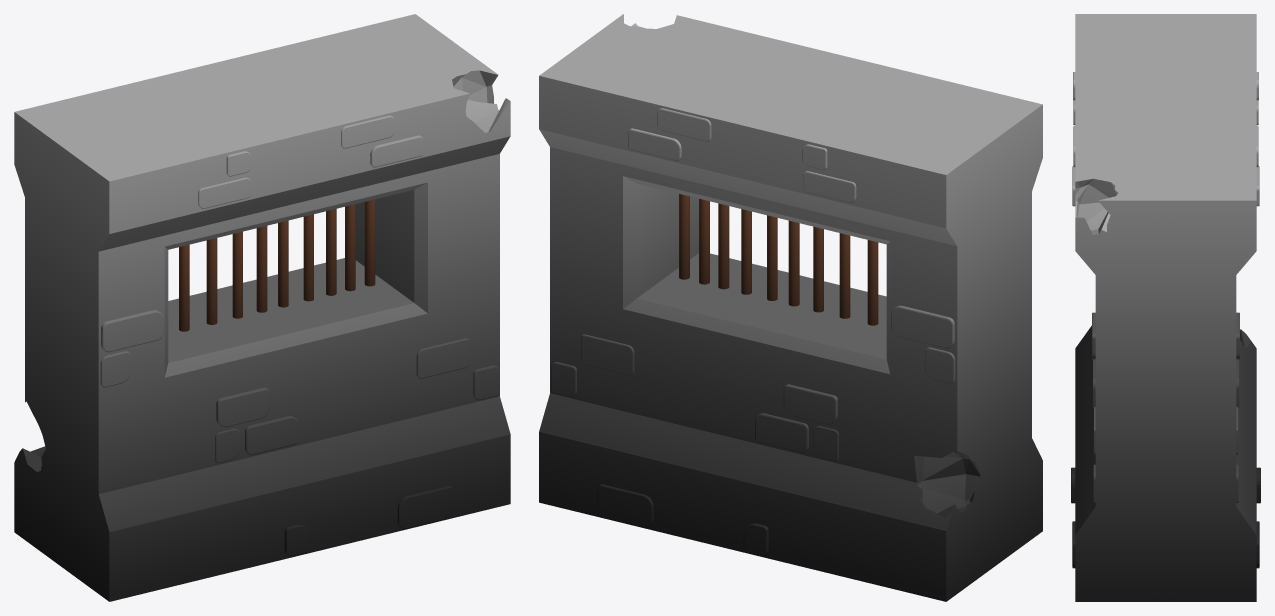
File: env_wall_windowed_01.glb
3 renders of one model, left to right at view 1: azimuth 30°, elevation 25°; view 2: azimuth 150°, elevation 25°; view 3: azimuth 270°, elevation 25°, orthographic. The views are drawn at different scales.
Visible parts, largest first — view 1: Cube, Bars.002, Bars.005, Bars.007, Bars, Bars.001, Bars.003, Bars.004, Bars.006, Bars.008; view 2: Cube, Bars.001, Bars.005, Bars.008, Bars.007, Bars.003, Bars, Bars.002, Bars.006, Bars.004; view 3: Cube.
Boxes of the visible parts, x1,y1,x2,y2 form: Cube: (14,14,510,601); Bars.002: (364,199,375,286); Bars.005: (256,226,267,312); Bars.007: (206,238,217,324); Bars: (303,214,313,301); Bars.001: (326,209,336,295); Bars.003: (345,204,355,291); Bars.004: (278,220,288,307); Bars.006: (232,231,242,318); Bars.008: (179,244,189,331); Cube: (539,14,1042,601); Bars.001: (718,203,729,289); Bars.005: (788,220,799,306); Bars.008: (867,240,878,325); Bars.007: (839,233,850,318); Bars.003: (699,198,709,284); Bars: (741,209,751,294); Bars.002: (679,194,689,279); Bars.006: (813,226,823,312); Bars.004: (767,215,777,300); Cube: (1071,14,1260,601).
Size of the model in its own units: 10.92 by 10.94 by 4.69.
11 materials, 11 textured.
